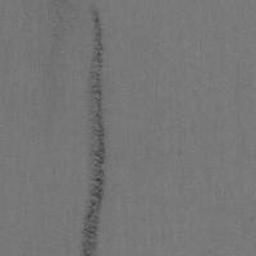Inclusion: (80, 7, 107, 256), (52, 0, 72, 8), (55, 10, 63, 23)
